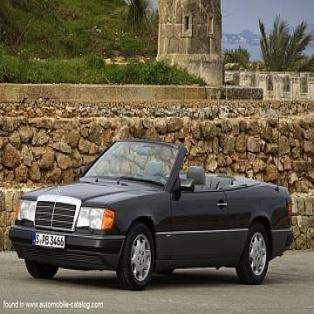Auto: (5, 134, 295, 292)
